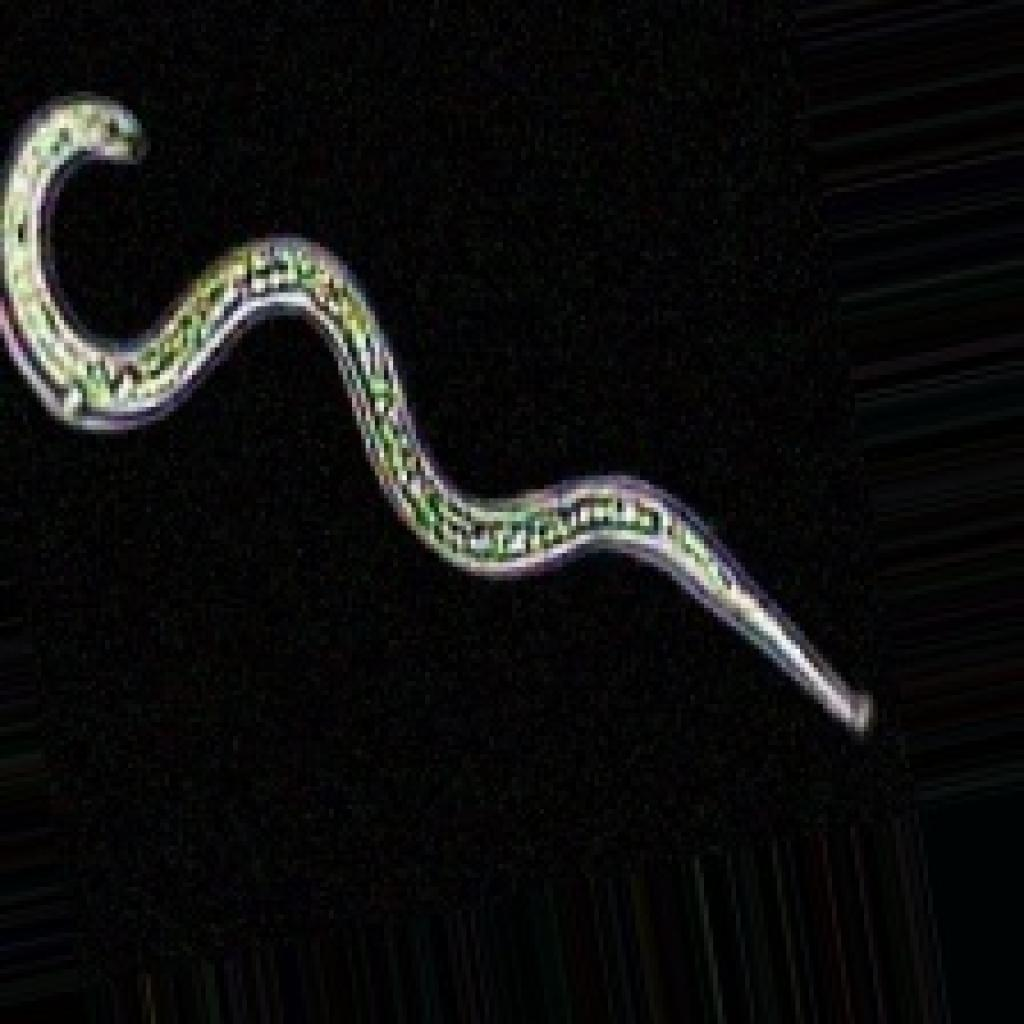Nematode: (0, 82, 878, 741)
